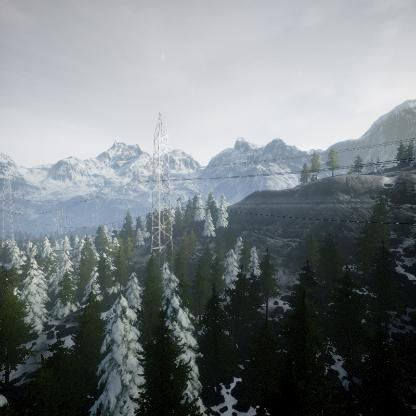tower: (140, 110, 183, 267)
